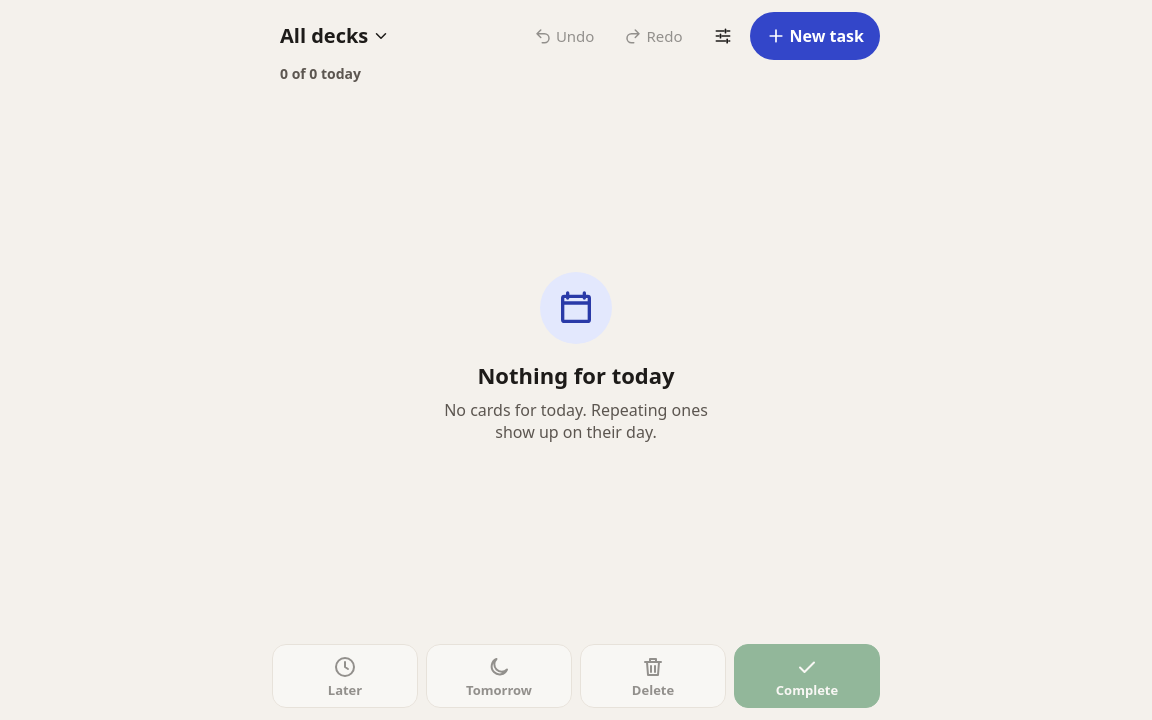
Test: Settings > Appearance › names the themes in English
Click the button named "Settings" at (722, 36), box [700, 12, 746, 60]
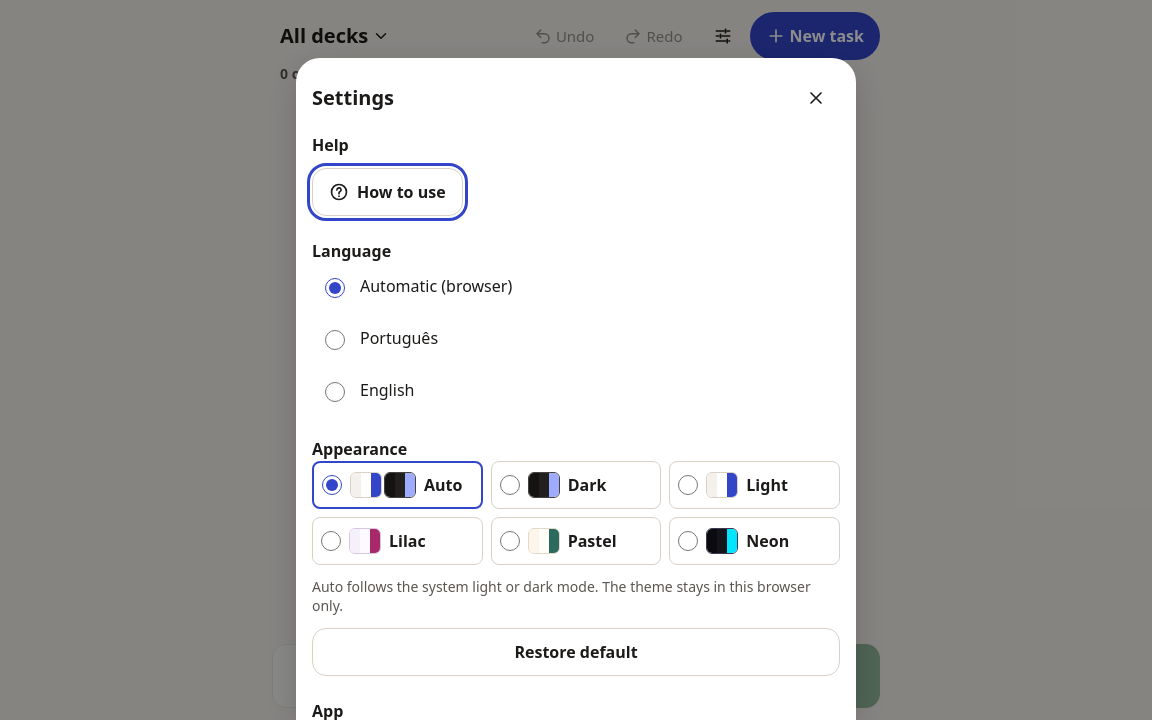
Click the radio button labelled "Lilac" at (331, 541), box [321, 531, 341, 551]
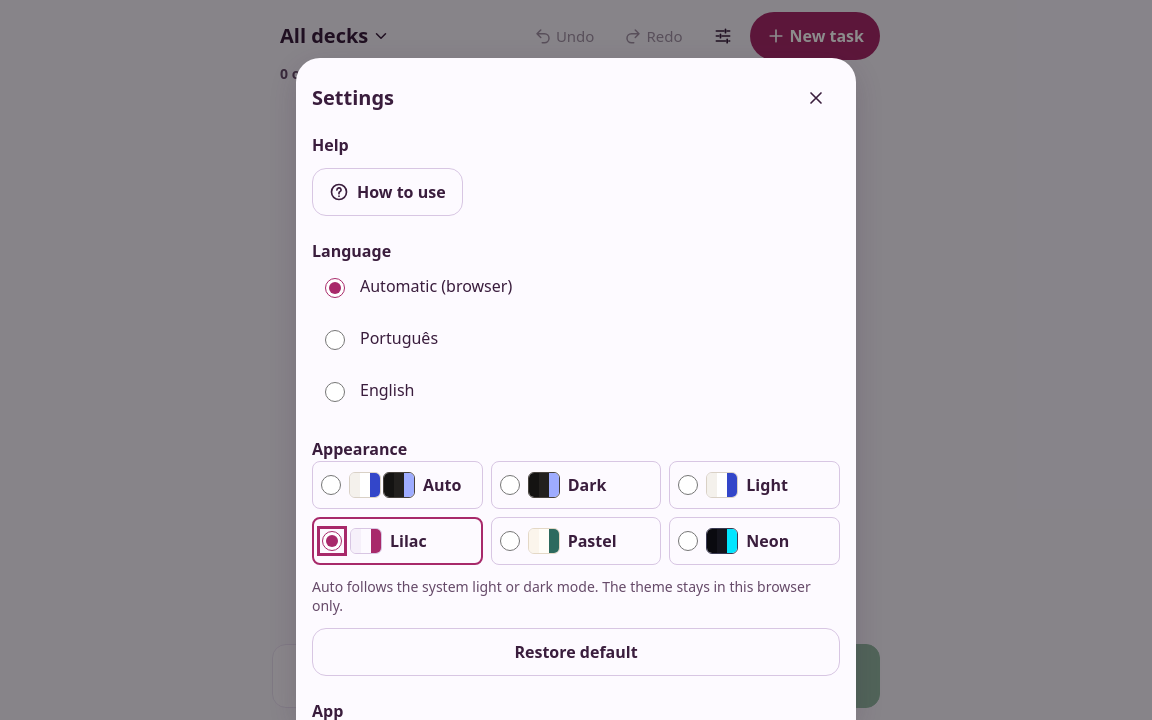
Now the button "Restore default" is enabled, box [312, 628, 840, 676]
